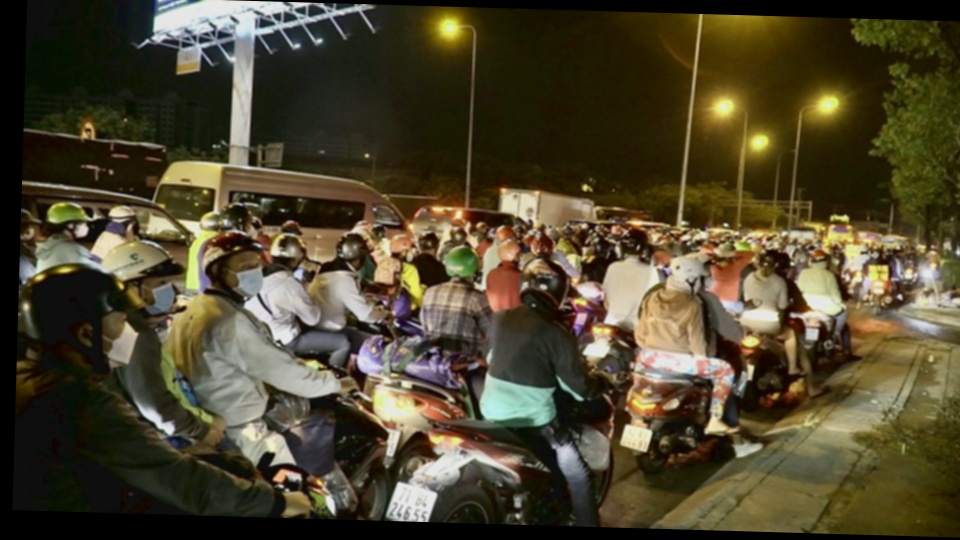Bien-so: (383, 502, 437, 540), (613, 448, 647, 484), (583, 362, 612, 381), (800, 354, 814, 368)
